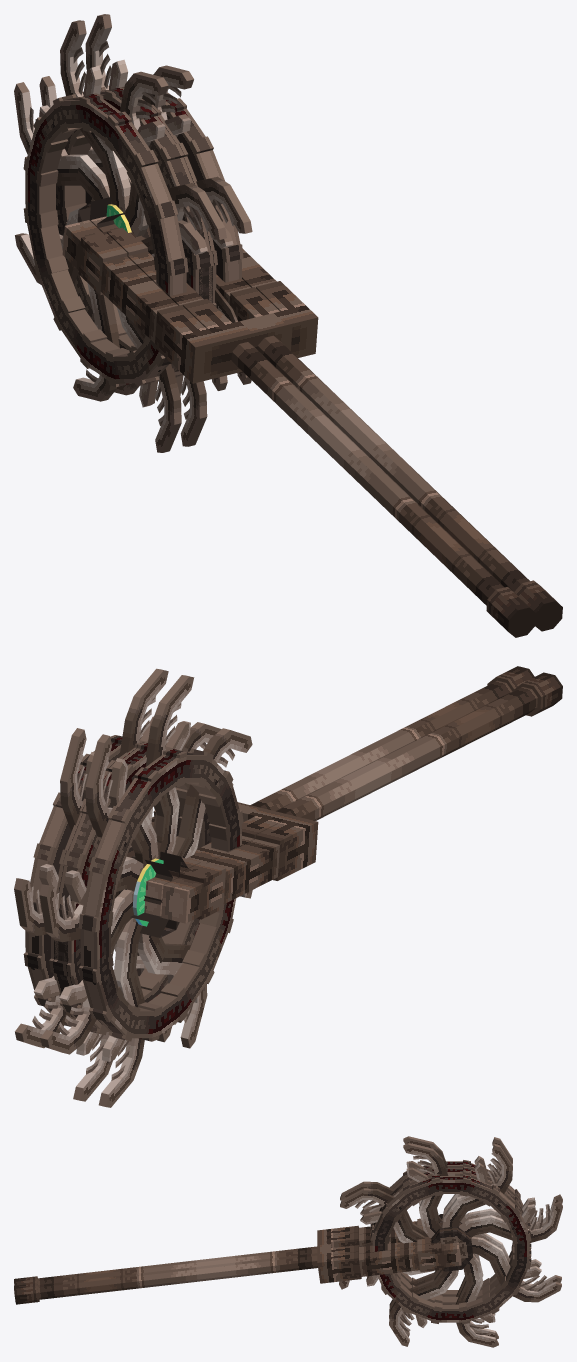
Rendered from thornwheel.glb.
3 views of the same model, one above another, from view 1: azimuth 30°, elevation 25°; view 2: azimuth 150°, elevation 25°; view 3: azimuth 270°, elevation 25° (orthographic). The views are drawn at different scales.
Parts seen in each view (by area): view 1: off__Tool_L, main__Tool_R; view 2: off__Tool_L, main__Tool_R; view 3: main__Tool_R, off__Tool_L.
Boxes of the visible parts, x1,y1,x2,y2 form: off__Tool_L: (14,20,536,637); main__Tool_R: (39,14,562,631); off__Tool_L: (39,672,562,1107); main__Tool_R: (14,666,534,1101); main__Tool_R: (14,1143,562,1347); off__Tool_L: (14,1136,562,1339).
Size of the model in its own units: 0.5206 by 1.51 by 3.71.
Materials: 1 (1 with a texture image).
